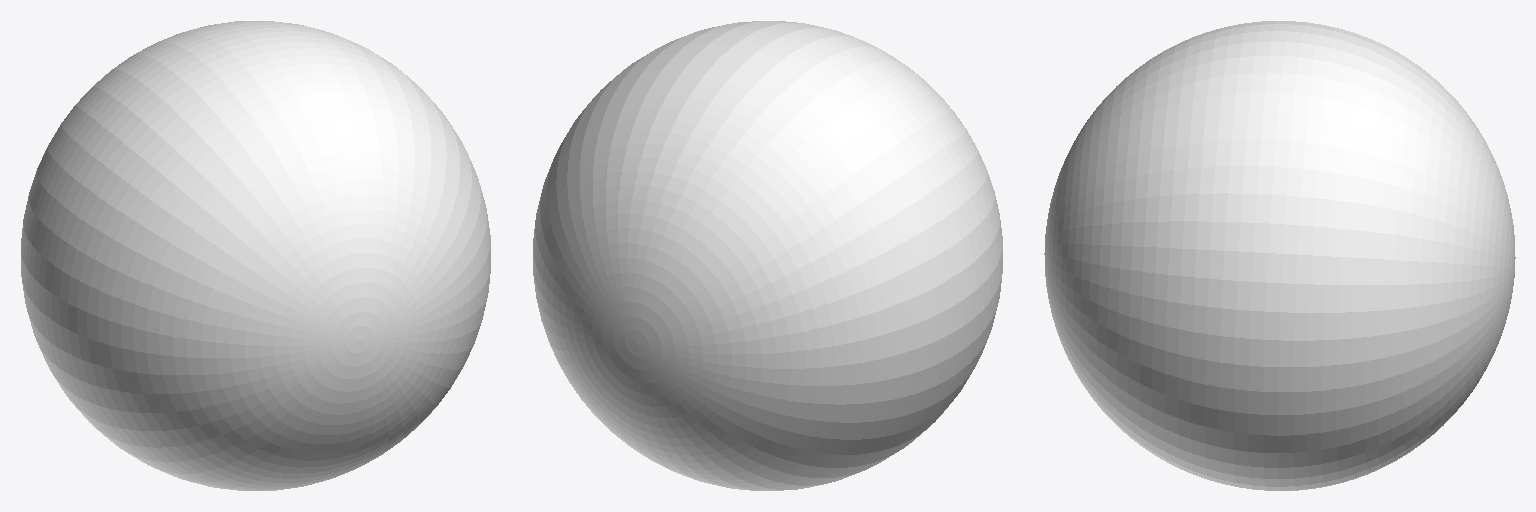
File: Jabulani.obj
3 views of the same model, side by side, from view 1: azimuth 30°, elevation 25°; view 2: azimuth 150°, elevation 25°; view 3: azimuth 270°, elevation 25° (orthographic).
Visible parts, largest first — view 1: pSphere1_Mesh; view 2: pSphere1_Mesh; view 3: pSphere1_Mesh.
Part boxes in pixels (left/top/right/bottom): pSphere1_Mesh: left=21, top=21, right=490, bottom=490; pSphere1_Mesh: left=533, top=21, right=1002, bottom=490; pSphere1_Mesh: left=1044, top=21, right=1515, bottom=490.
Bounding box in the file's own units: 0.1971 × 0.1974 × 0.1974.